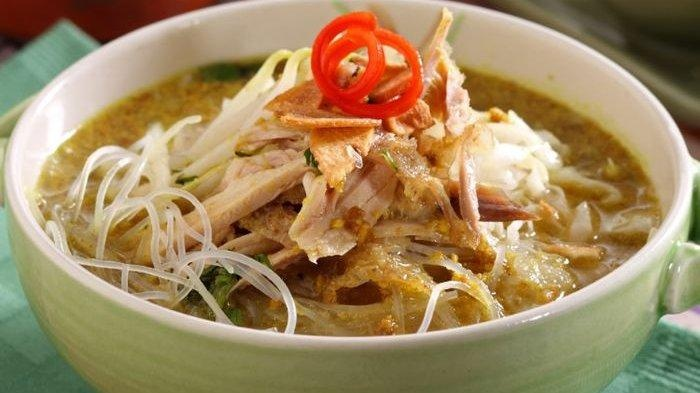soto: (26, 10, 647, 325)
